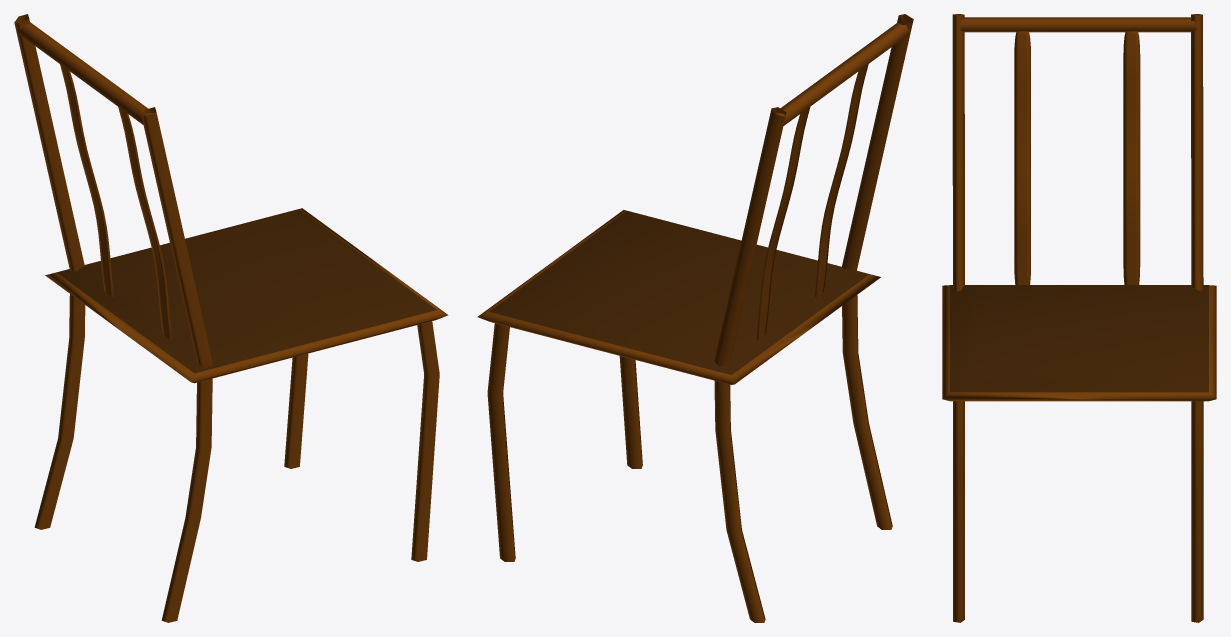
Rendered from chair.dae.
The picture shows the model from 3 angles, left to right: view 1: azimuth 30°, elevation 25°; view 2: azimuth 150°, elevation 25°; view 3: azimuth 270°, elevation 25°; orthographic projection. The views are drawn at different scales.
Parts seen in each view (by area): view 1: Chair; view 2: Chair; view 3: Chair.
Part boxes in pixels (x1,y1,x2,y2): Chair: (14,14,448,622); Chair: (478,14,913,622); Chair: (942,14,1216,622).
Bounding box in the file's own units: 4.5 × 3.83 × 7.44.
Materials: 1 (1 with a texture image).
